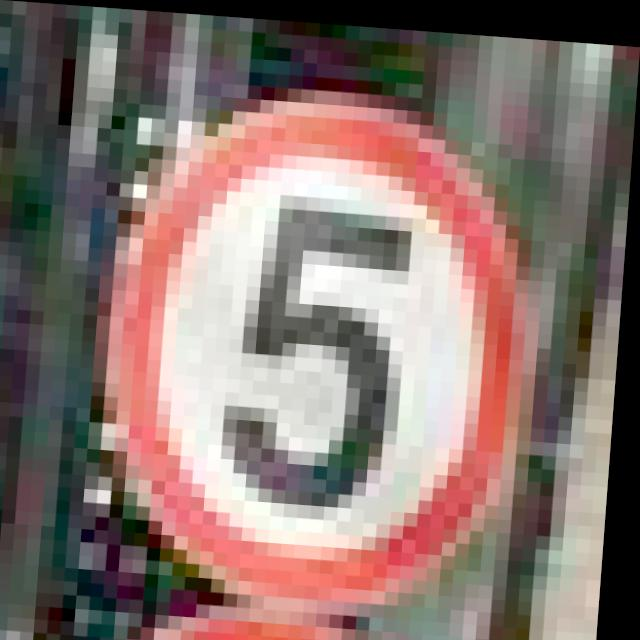SPEED_LIMIT_5: (90, 58, 546, 618)
